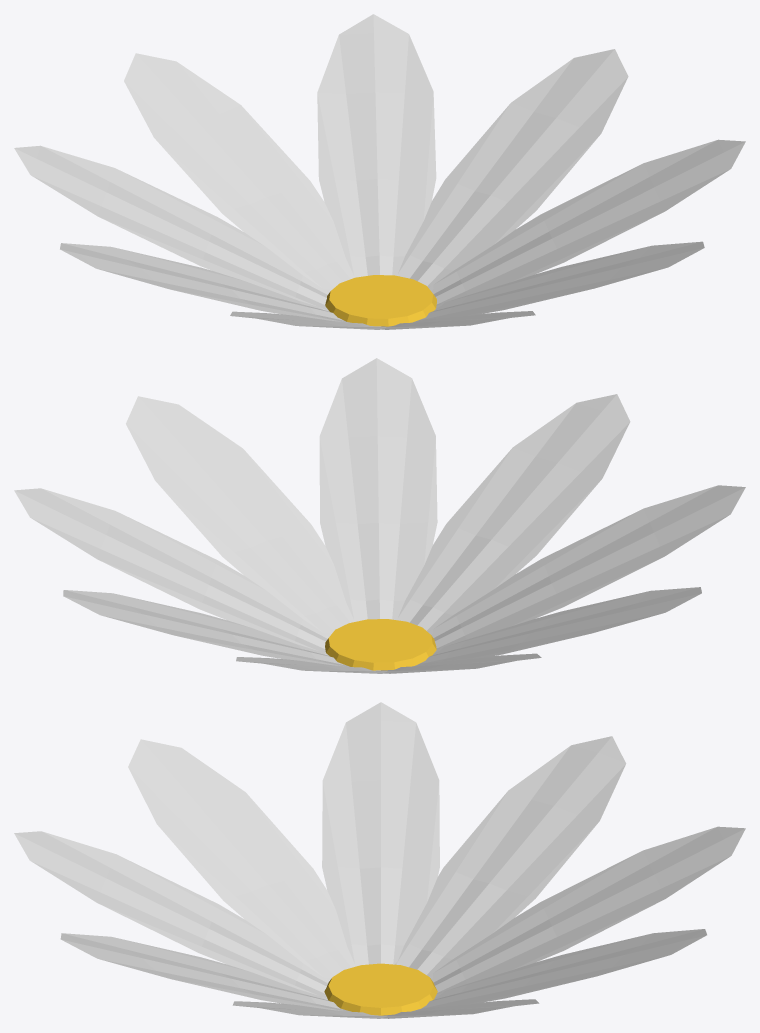
Rendered from flower1.fbx.
3 views of the same model, one above another, from view 1: azimuth 30°, elevation 25°; view 2: azimuth 150°, elevation 25°; view 3: azimuth 270°, elevation 25° (orthographic).
Visible parts, largest first — view 1: Circle, Circle.001; view 2: Circle, Circle.001; view 3: Circle, Circle.001.
Boxes of the visible parts, x1,y1,x2,y2 form: Circle: (14,14,745,329); Circle.001: (325,275,436,326); Circle: (14,358,745,673); Circle.001: (325,619,436,670); Circle: (14,702,745,1018); Circle.001: (324,963,437,1015).
Bounding box in the file's own units: 156 × 36.66 × 158.
